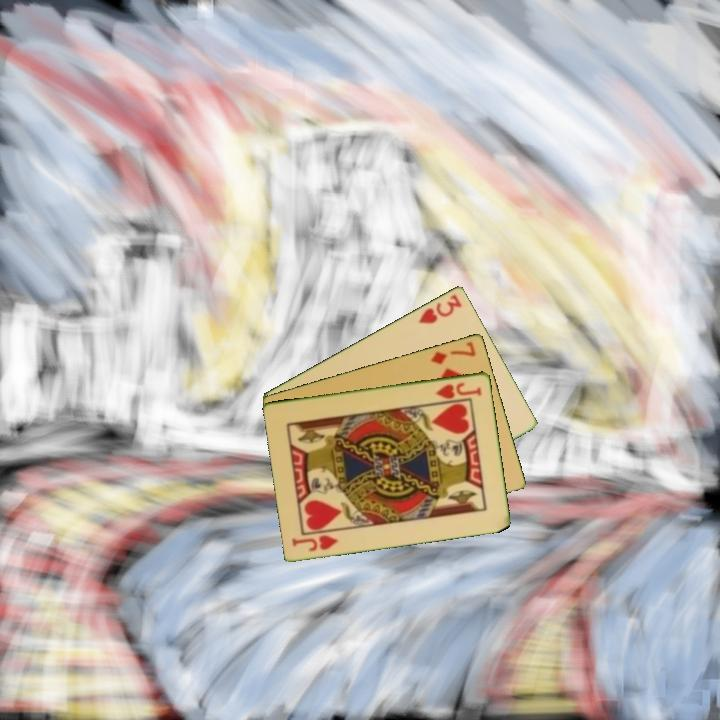3h: (415, 290, 465, 326)
7d: (427, 338, 479, 367)
Jh: (433, 378, 485, 402), (289, 531, 341, 554)
